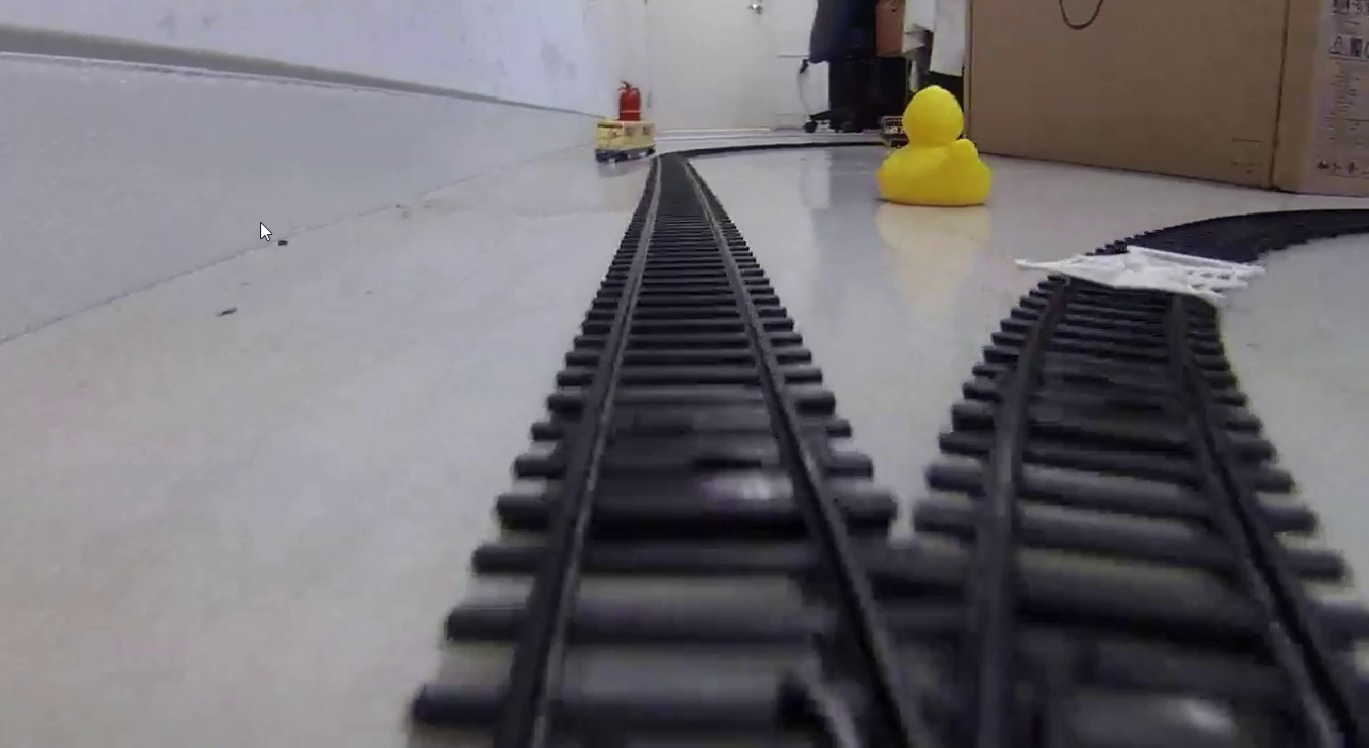web: (1021, 246, 1266, 311)
